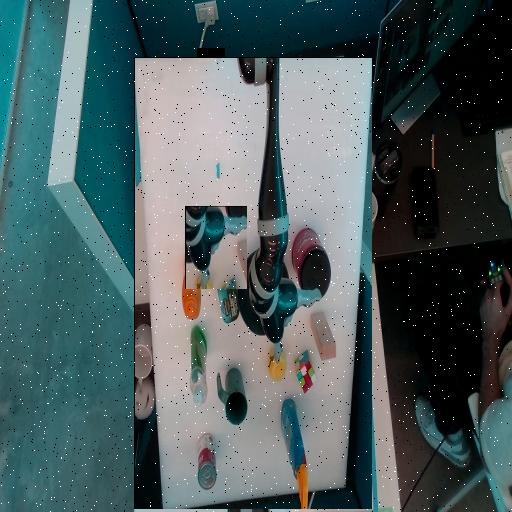bowl: (218, 232, 268, 318)
cleanser: (300, 161, 316, 241)
coffee_can: (176, 267, 214, 338)
jaco: (186, 206, 247, 289)
meat_can: (267, 261, 289, 282)
mug: (259, 143, 289, 199)
mustard_bottle: (306, 249, 324, 317)
rubik: (190, 185, 212, 207)
soup_can: (290, 97, 308, 115)
tennis_ball: (221, 188, 238, 218)
windex: (197, 96, 225, 118)
wooden_block: (170, 219, 195, 244)
workspace: (134, 58, 372, 509)
